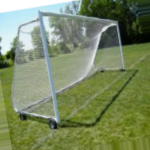goals: (8, 9, 127, 125)
